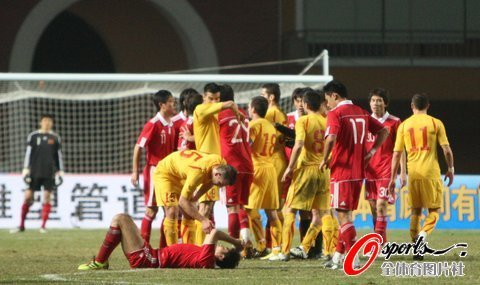10+: (20, 75, 456, 269)
down: (81, 223, 251, 269)
